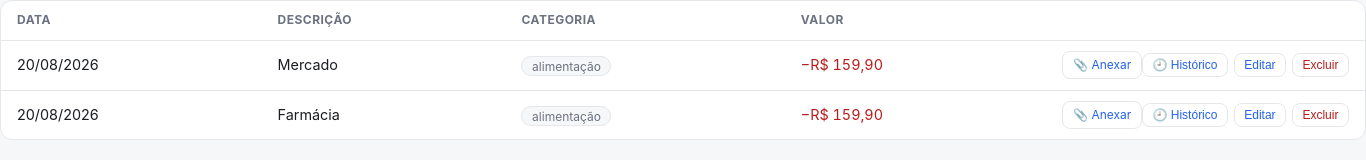
Scenario: TransactionList › desabilita os botões de excluir enquanto a exclusão está pendente
The width and height of the screenshot is (1366, 160).
Click the button with aria-label "Excluir Mercado". click: (1320, 65)
box: x1=1292 y1=53 x2=1349 y2=77
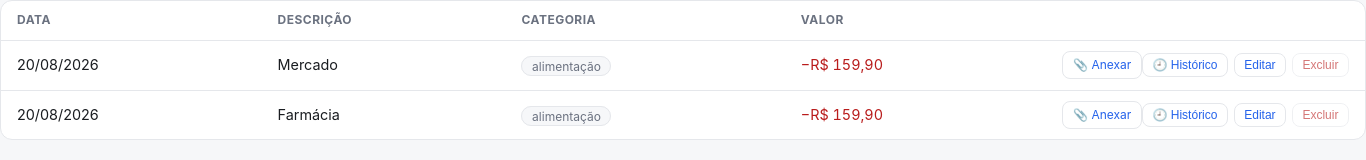
Check: the button with aria-label "Excluir Farmácia" is disabled, box x1=1292 y1=103 x2=1349 y2=127
Check: the button with aria-label "Excluir Mercado" is disabled, box x1=1292 y1=53 x2=1349 y2=77
